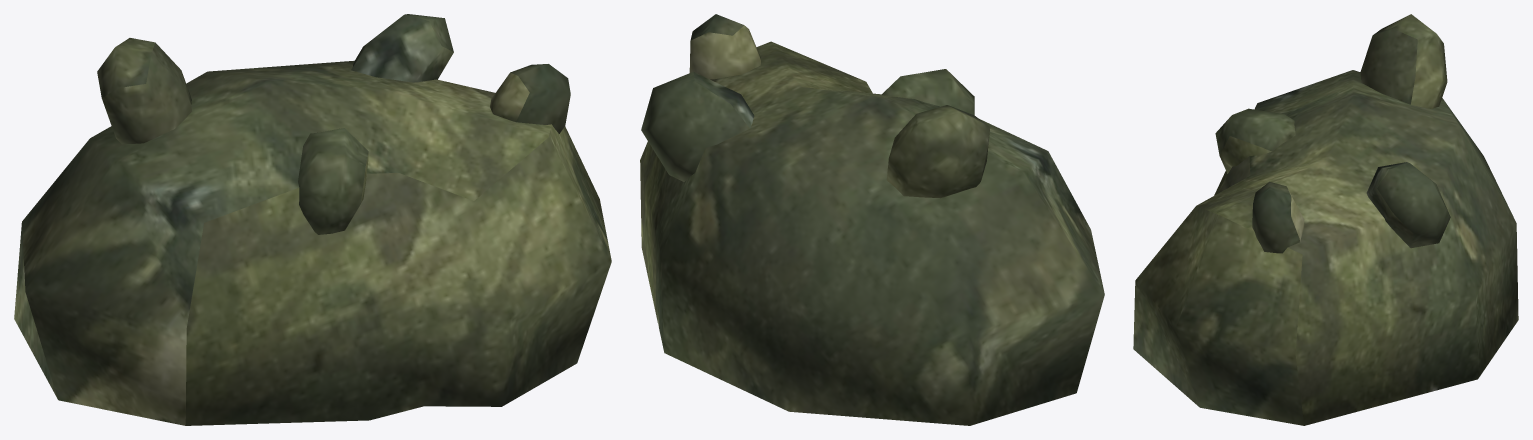
File: BUISSON-L.glb
The picture shows the model from 3 angles, left to right: view 1: azimuth 30°, elevation 25°; view 2: azimuth 150°, elevation 25°; view 3: azimuth 270°, elevation 25°; orthographic projection. The views are drawn at different scales.
Parts seen in each view (by area): view 1: Cube.022; view 2: Cube.022; view 3: Cube.022.
Part boxes in pixels (<box>): Cube.022: <box>14,14,611,425</box>; Cube.022: <box>640,14,1104,425</box>; Cube.022: <box>1133,14,1518,425</box>.
Bounding box in the file's own units: 3.09 × 1.84 × 2.28.
Materials: 1 (1 with a texture image).
